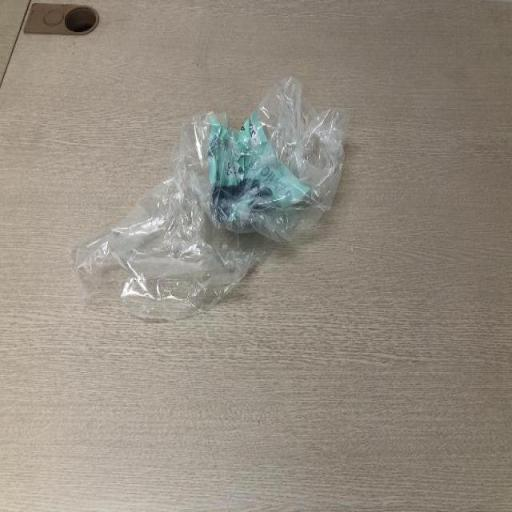plastic-bag: (71, 71, 349, 321)
